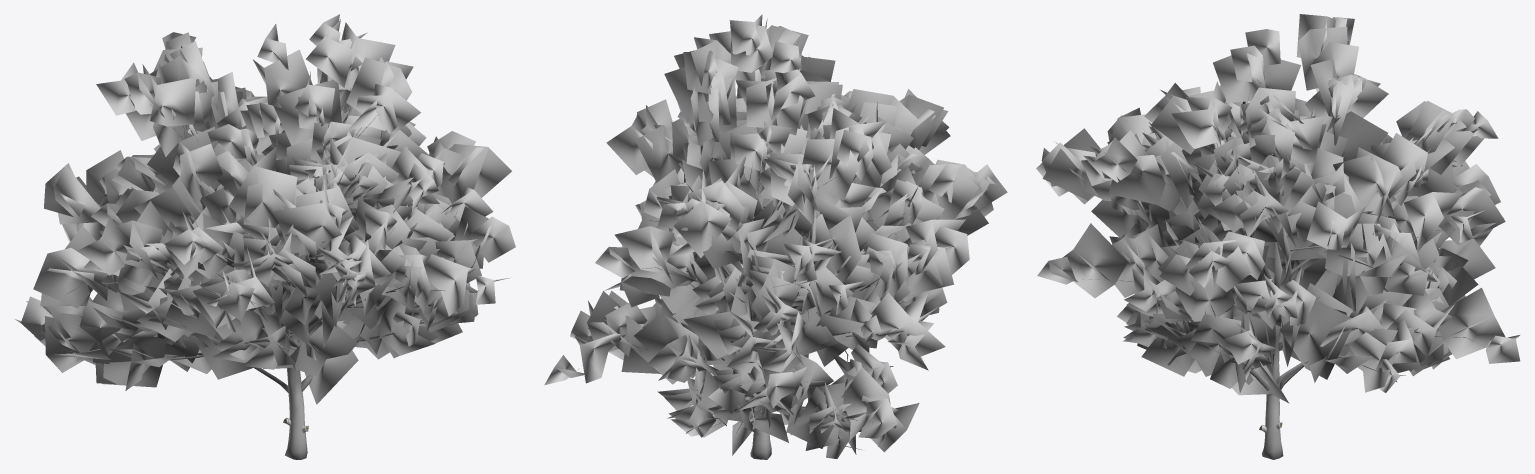
Rendered from MapleHedge_E (1).fbx.
The picture shows the model from 3 angles, left to right: view 1: azimuth 30°, elevation 25°; view 2: azimuth 150°, elevation 25°; view 3: azimuth 270°, elevation 25°; orthographic projection. The views are drawn at different scales.
Visible parts, largest first — view 1: MapleHedge_E_LOD0; view 2: MapleHedge_E_LOD0; view 3: MapleHedge_E_LOD0.
Boxes of the visible parts, bbox=[...] form: MapleHedge_E_LOD0: bbox=[15, 14, 515, 459]; MapleHedge_E_LOD0: bbox=[544, 14, 1007, 459]; MapleHedge_E_LOD0: bbox=[1036, 14, 1520, 459].
Size of the model in its own units: 957 by 1001 by 1055.
